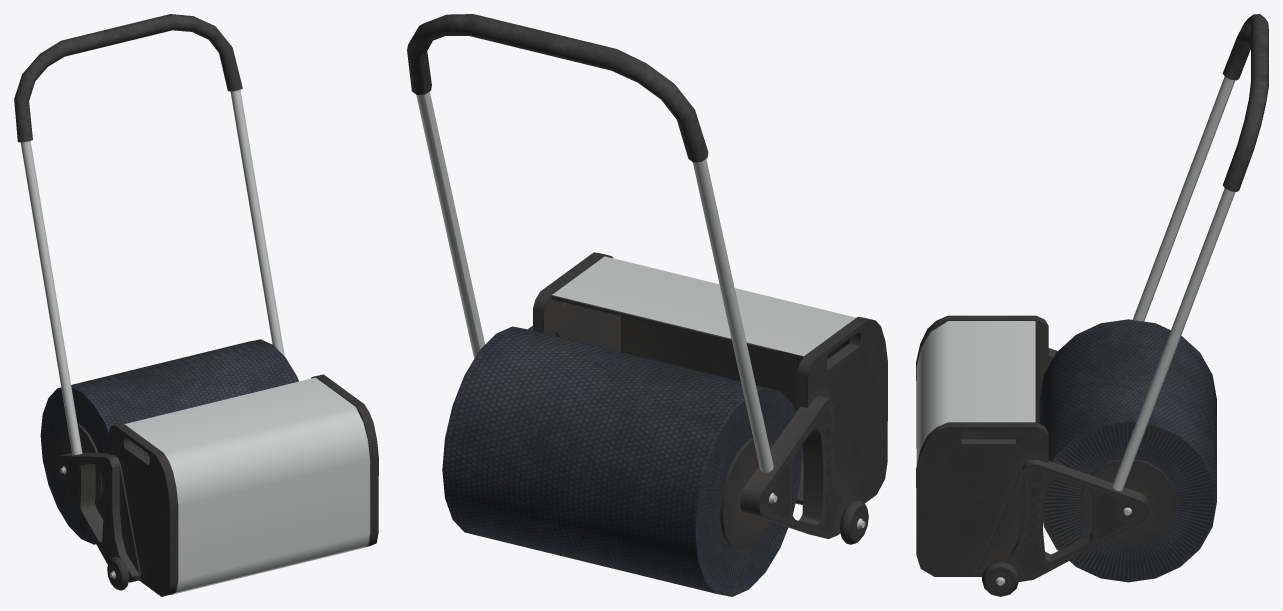
Rendered from SM_Rolling_Cleaner_01a.glb.
3 renders of one model, left to right at view 1: azimuth 30°, elevation 25°; view 2: azimuth 150°, elevation 25°; view 3: azimuth 270°, elevation 25°, orthographic. The views are drawn at different scales.
Visible parts, largest first — view 1: SM_Rolling_Cleaner_01a; view 2: SM_Rolling_Cleaner_01a; view 3: SM_Rolling_Cleaner_01a.
Boxes of the visible parts, left/top/right/bottom form: SM_Rolling_Cleaner_01a: left=14, top=14, right=378, bottom=596; SM_Rolling_Cleaner_01a: left=407, top=14, right=887, bottom=596; SM_Rolling_Cleaner_01a: left=916, top=14, right=1268, bottom=596.
Bounding box in the file's own units: 0.8061 × 1.38 × 0.9047.
Materials: 1 (1 with a texture image).
